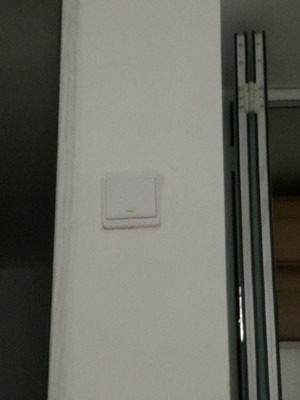switch: (104, 177, 161, 227)
